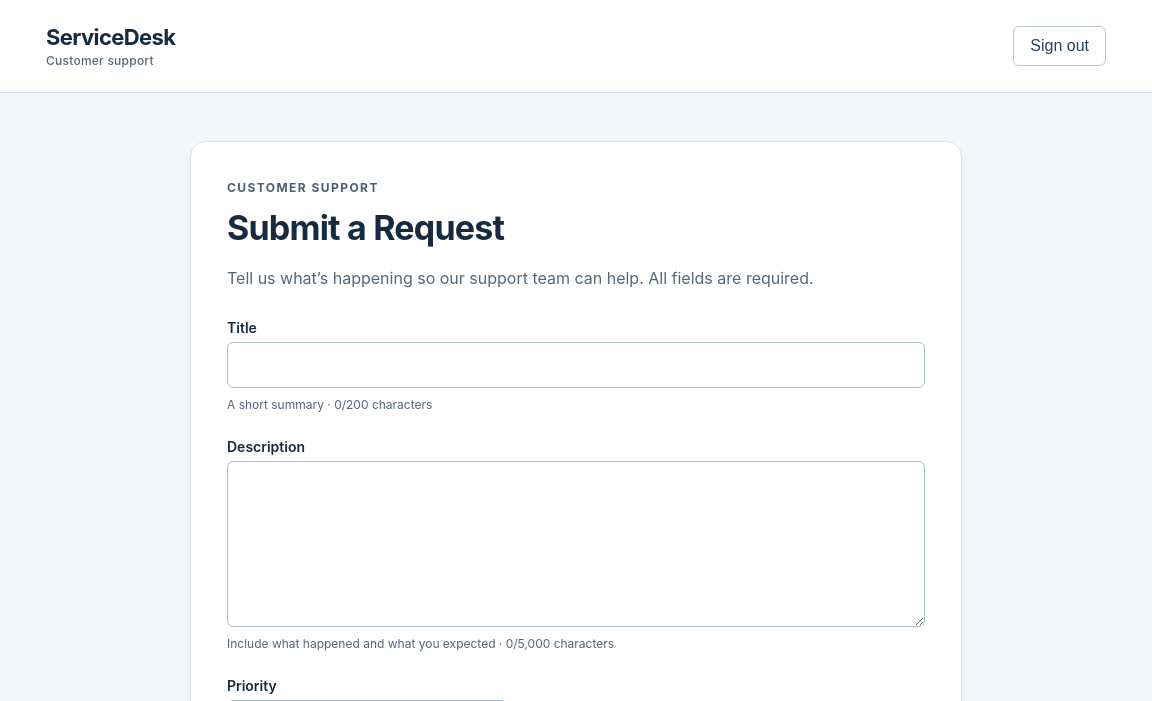
it: customer request submission › returns to login on an expired/revoked session
Check: the heading "Submit a Request" is shown, box [227,207,504,248]
Type "Printer offline" into the field labelled "Title" at (576, 365), box [227,342,925,388]
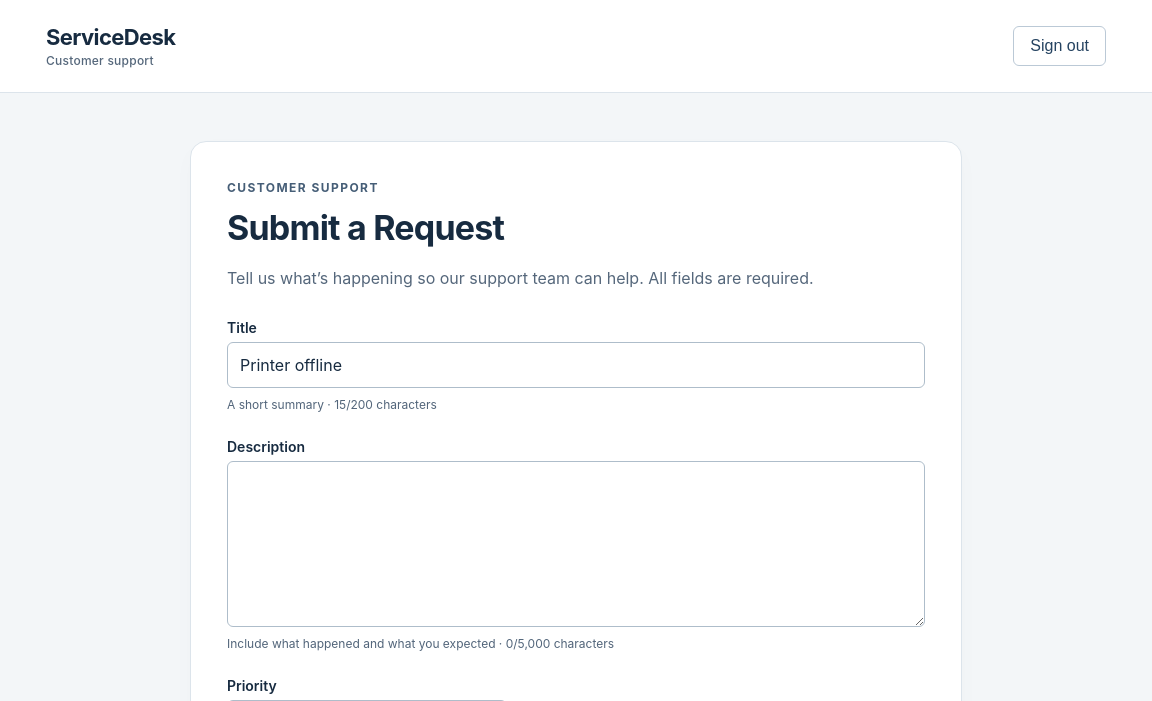
Type "The office printer cannot be reached." into the text box labelled "Description" at (576, 544), box [227,461,925,627]
(page scrolled)
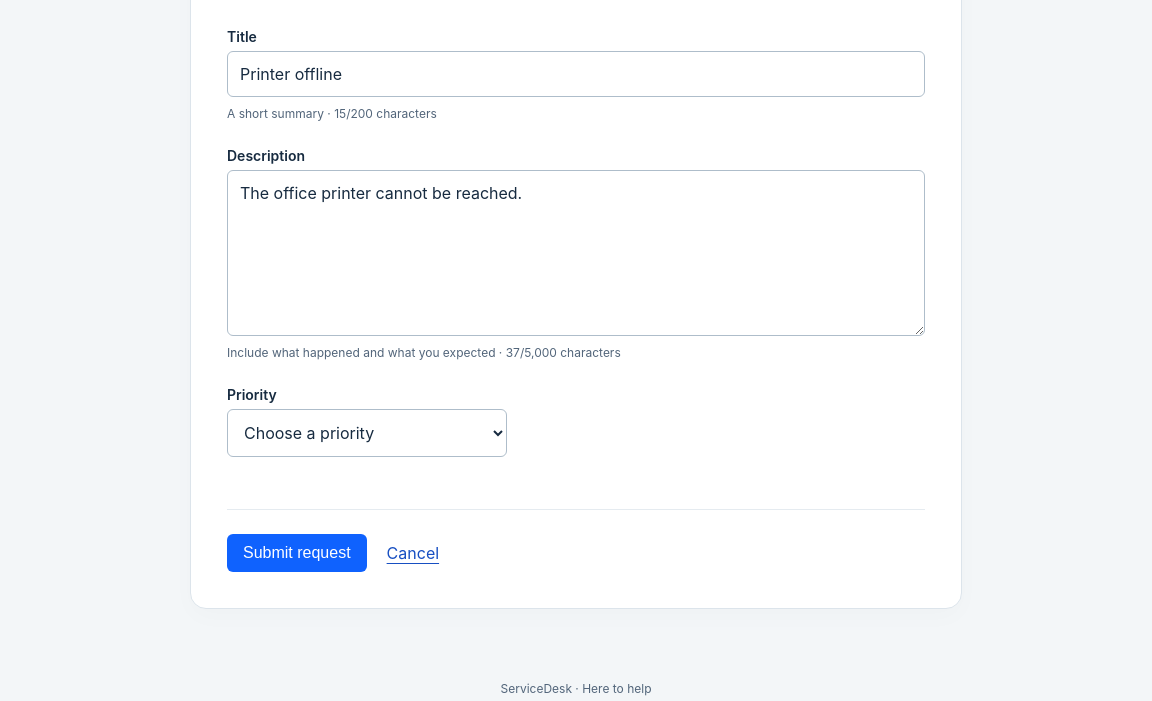
Select "Medium" in the dropdown labelled "Priority" at (367, 433), box [227,409,507,457]
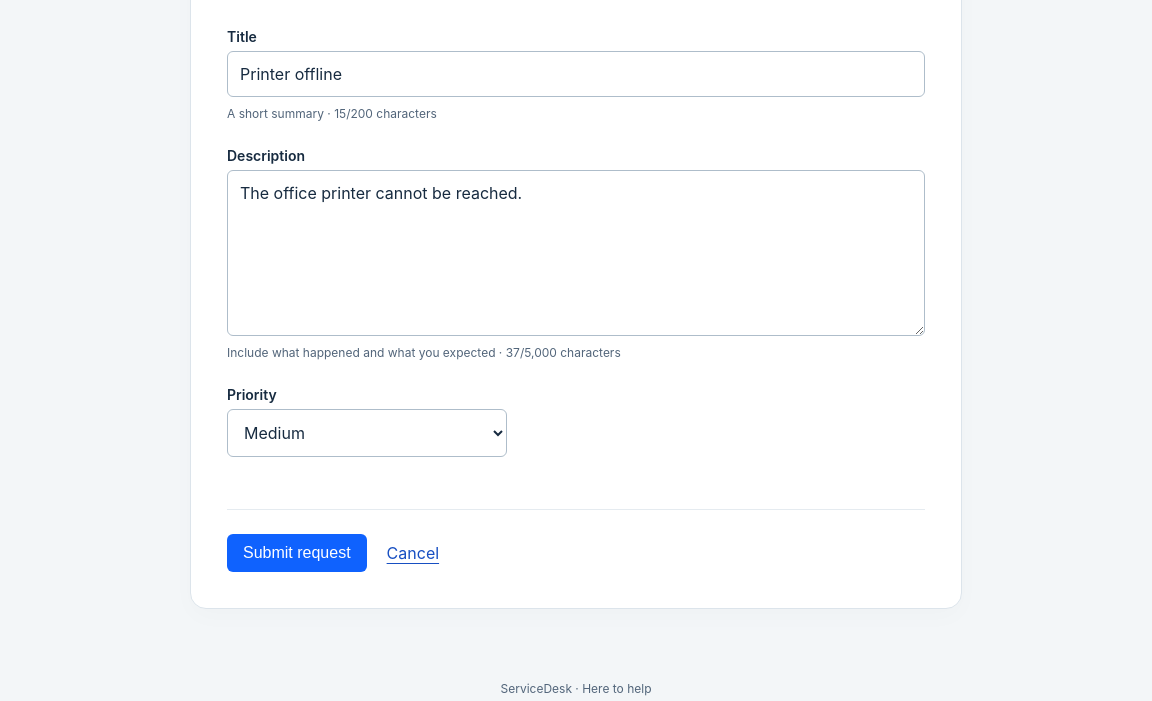
Click the button "Submit request" at (297, 553), box [227,534,367,572]
(page scrolled)
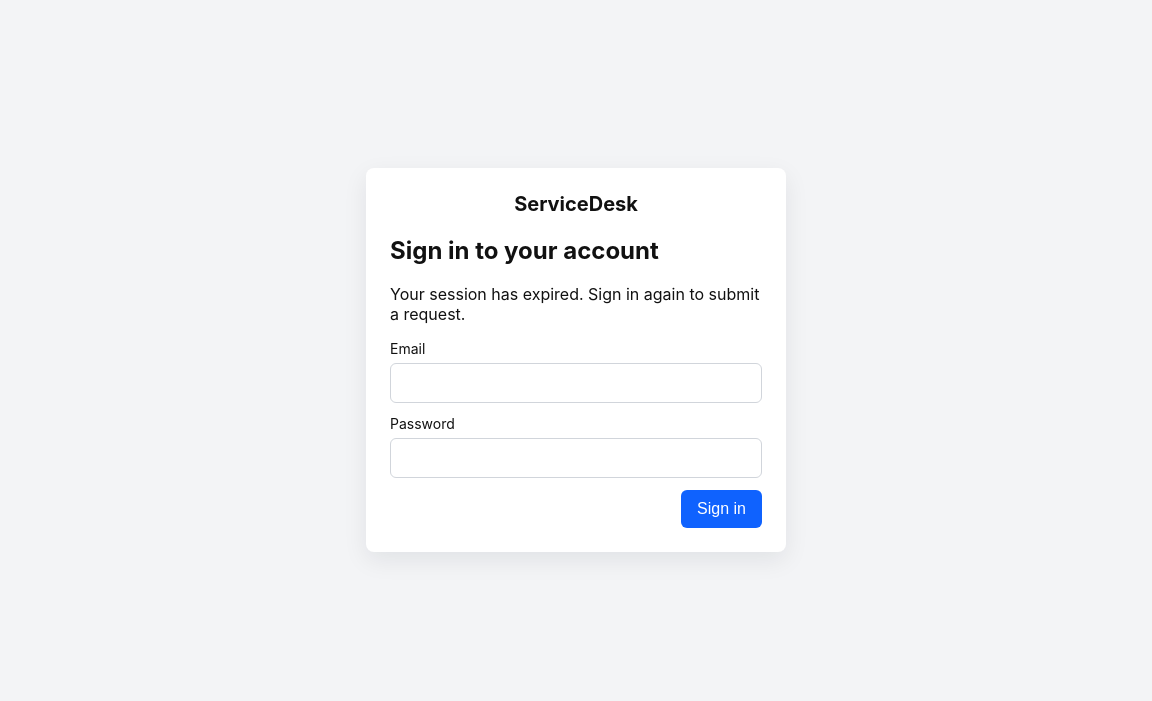
Check: the button "Sign in" is shown, box [681,490,762,528]
Check: the message shows "Your session has expired.", box [390,284,759,324]
